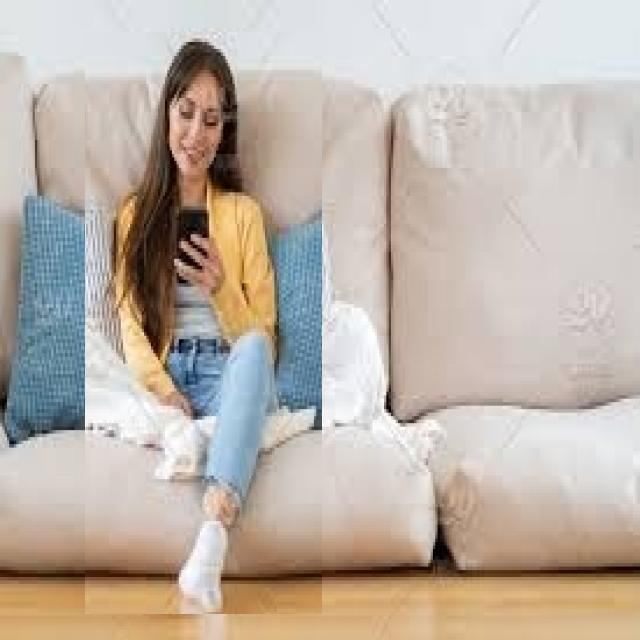NotFall: (5, 81, 375, 624)
